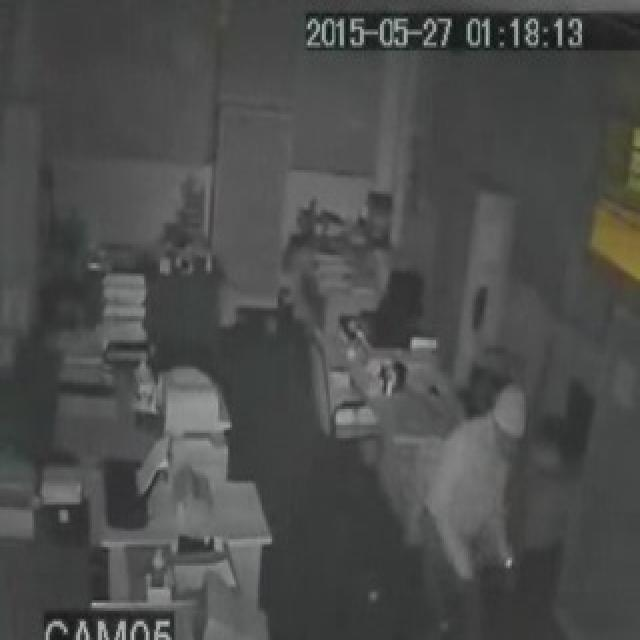thief: (453, 372, 539, 510)
